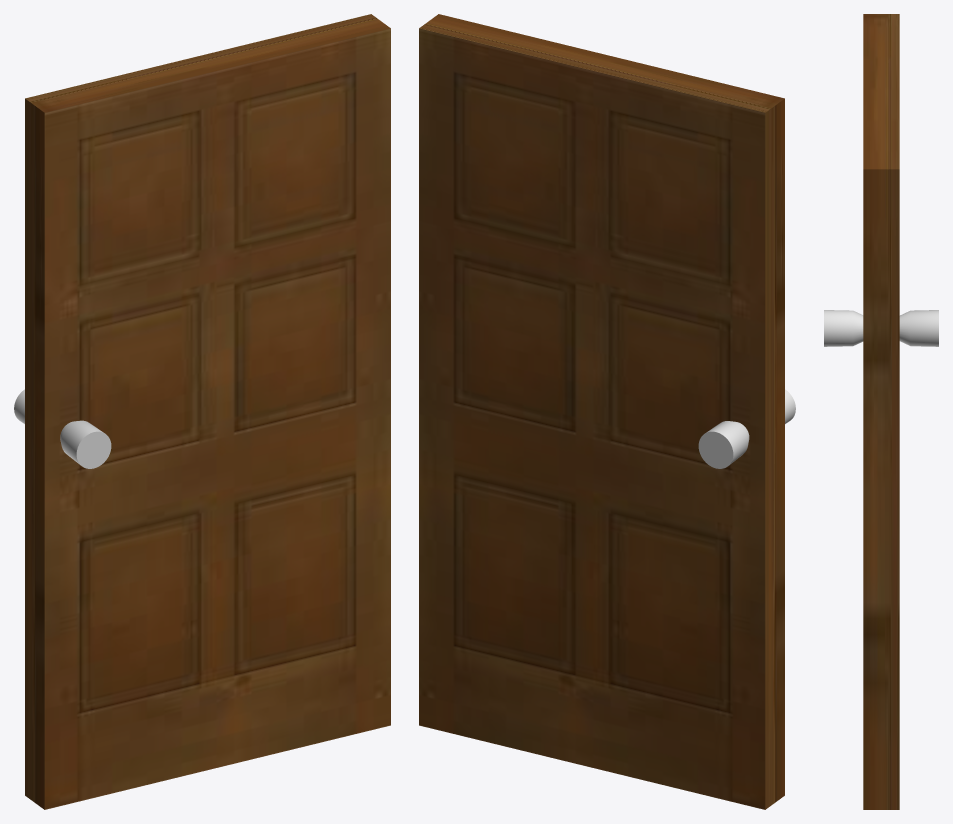
The model's file is Door.glb.
The picture shows the model from 3 angles, left to right: view 1: azimuth 30°, elevation 25°; view 2: azimuth 150°, elevation 25°; view 3: azimuth 270°, elevation 25°; orthographic projection. The views are drawn at different scales.
Parts seen in each view (by area): view 1: Cube, Cylinder; view 2: Cube, Cylinder; view 3: Cube, Cylinder.
Part boxes in pixels (<box>): Cube: <box>25,14,390,809</box>; Cylinder: <box>14,389,111,468</box>; Cube: <box>419,14,784,809</box>; Cylinder: <box>698,389,795,468</box>; Cube: <box>863,14,899,809</box>; Cylinder: <box>824,310,938,346</box>.
Size of the model in its own units: 1.61 by 3.1 by 0.5046.
Materials: 2 (1 with a texture image).
